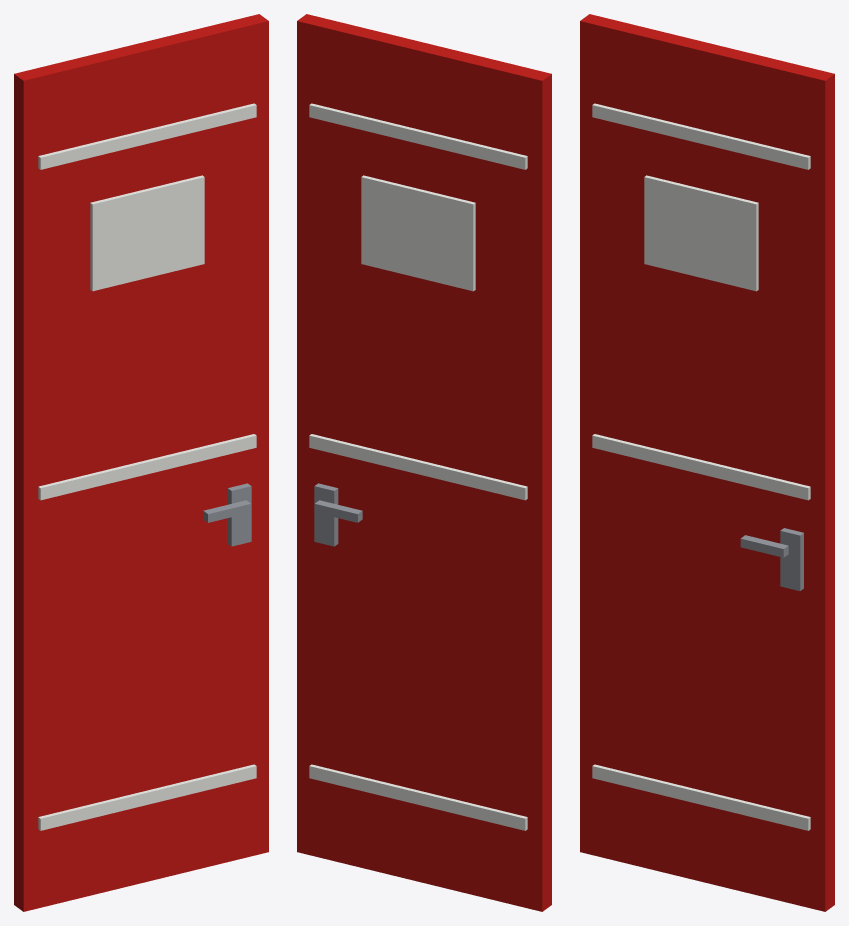
Rendered from SM_Door_lighthouse_75x240.fbx.
The picture shows the model from 3 angles, left to right: view 1: azimuth 30°, elevation 25°; view 2: azimuth 150°, elevation 25°; view 3: azimuth 330°, elevation 25°; orthographic projection.
Visible parts, largest first — view 1: SM_Door_lighthouse_75x240; view 2: SM_Door_lighthouse_75x240; view 3: SM_Door_lighthouse_75x240.
Boxes of the visible parts, x1=… form: SM_Door_lighthouse_75x240: x1=14, y1=14, x2=268, y2=911; SM_Door_lighthouse_75x240: x1=297, y1=14, x2=551, y2=911; SM_Door_lighthouse_75x240: x1=580, y1=14, x2=834, y2=911.
Size of the model in its own units: 0.738 by 2.39 by 0.175.
